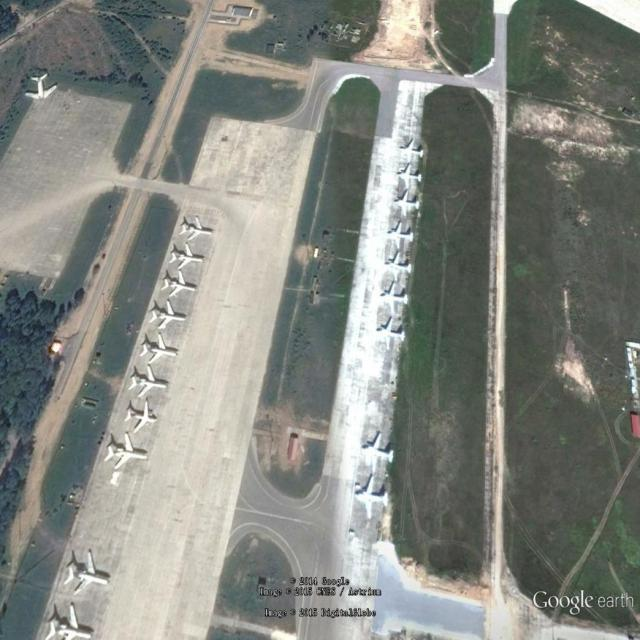aircraft: (64, 550, 110, 597), (44, 602, 96, 640), (354, 472, 390, 521), (104, 433, 148, 469), (360, 433, 394, 475), (141, 331, 179, 366), (128, 366, 170, 397), (150, 301, 190, 332), (375, 316, 407, 354), (125, 398, 158, 434), (169, 242, 208, 271), (380, 282, 410, 318), (382, 251, 413, 283), (163, 269, 198, 297), (24, 73, 58, 101), (392, 189, 422, 219), (394, 162, 426, 190), (384, 221, 416, 249), (181, 217, 214, 242), (398, 140, 427, 165)
